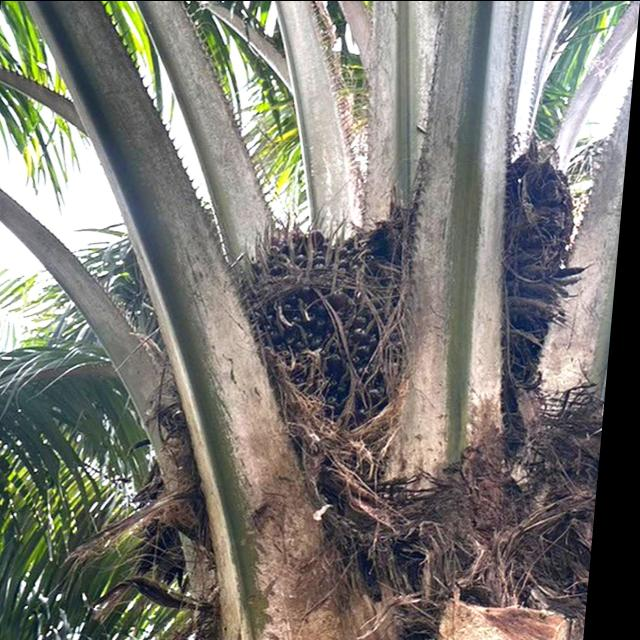ripe: (216, 214, 416, 410)
